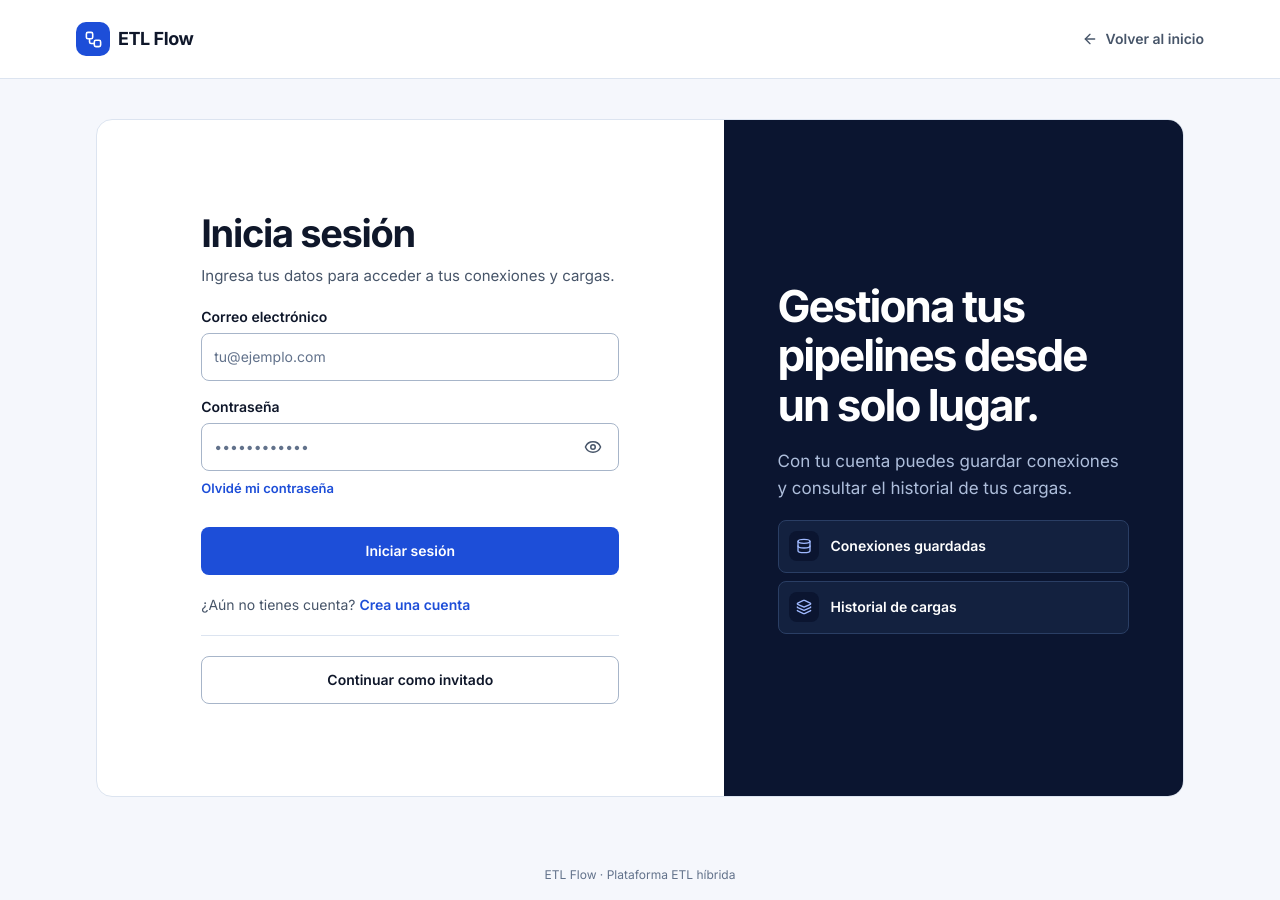
Test case: account forms › lets users show and hide the password without submitting
Type "synthetic-passphrase" into the password field labelled "Contraseña" at [410, 447], box [201,423,619,471]
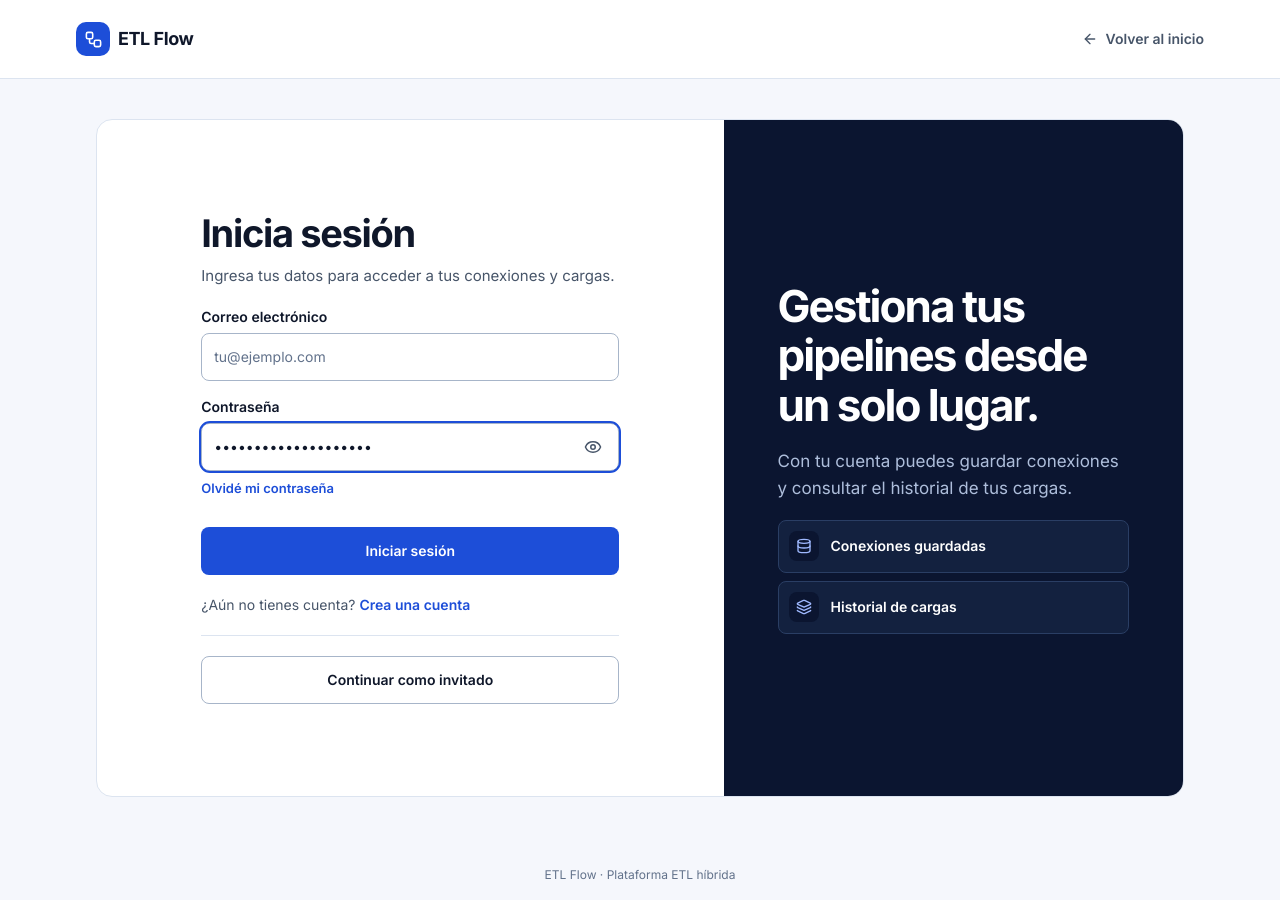
Click the button named "Mostrar contraseña" at [593, 447], box [571,425,615,469]
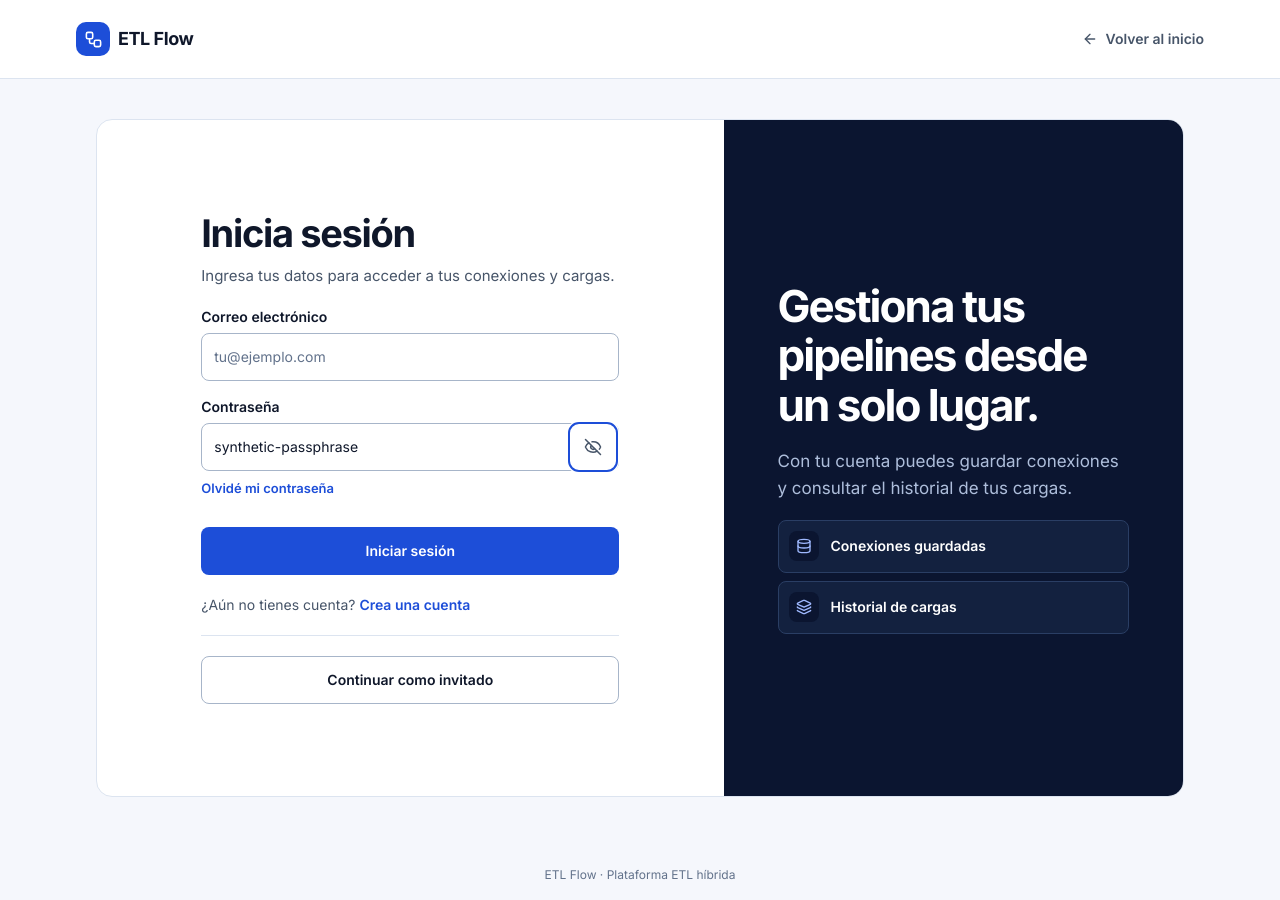
Now the field labelled "Contraseña" shows its text, box [201,423,619,471]
Click the button named "Ocultar contraseña" at [593, 447], box [571,425,615,469]
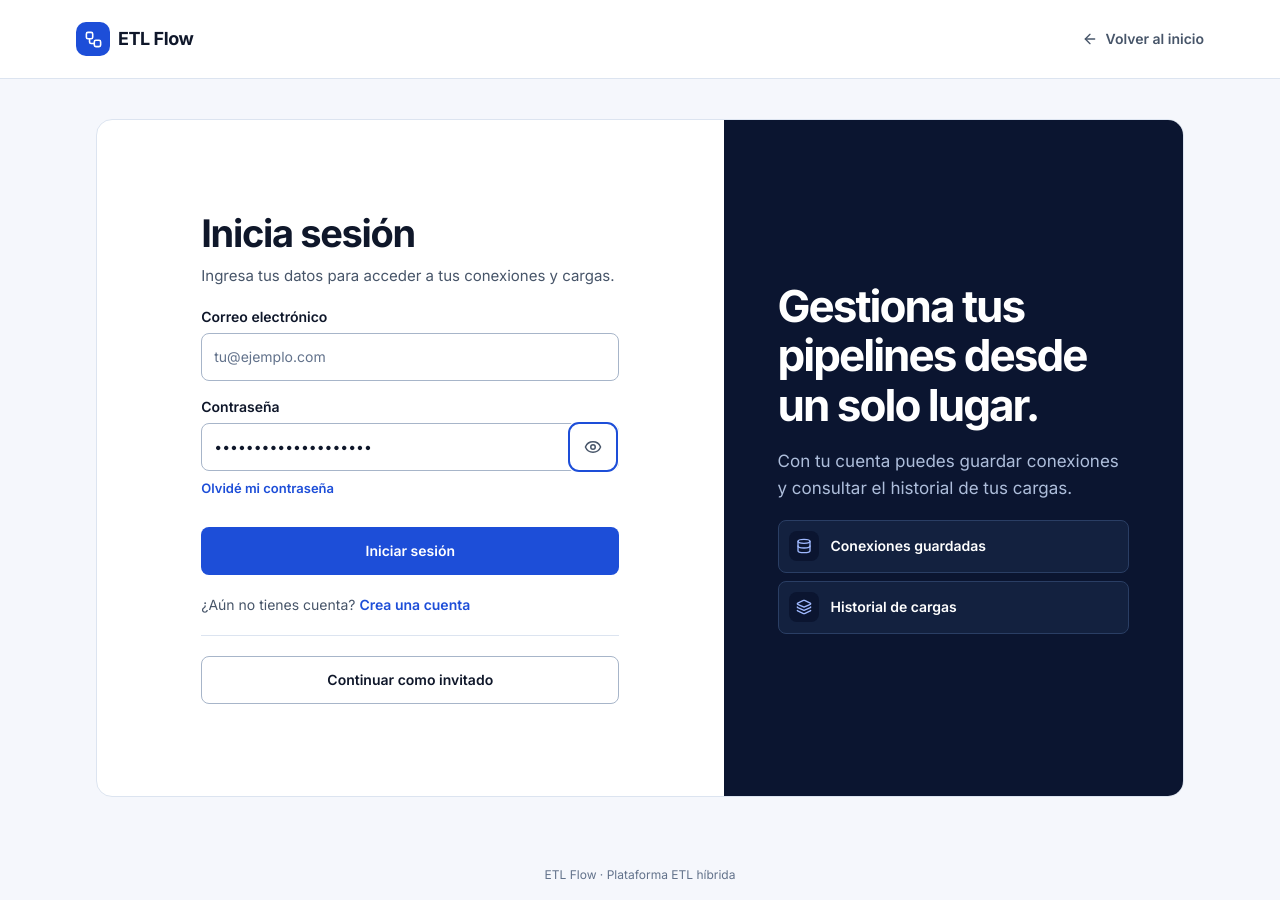
Now the password field labelled "Contraseña" hides its text, box [201,423,619,471]
